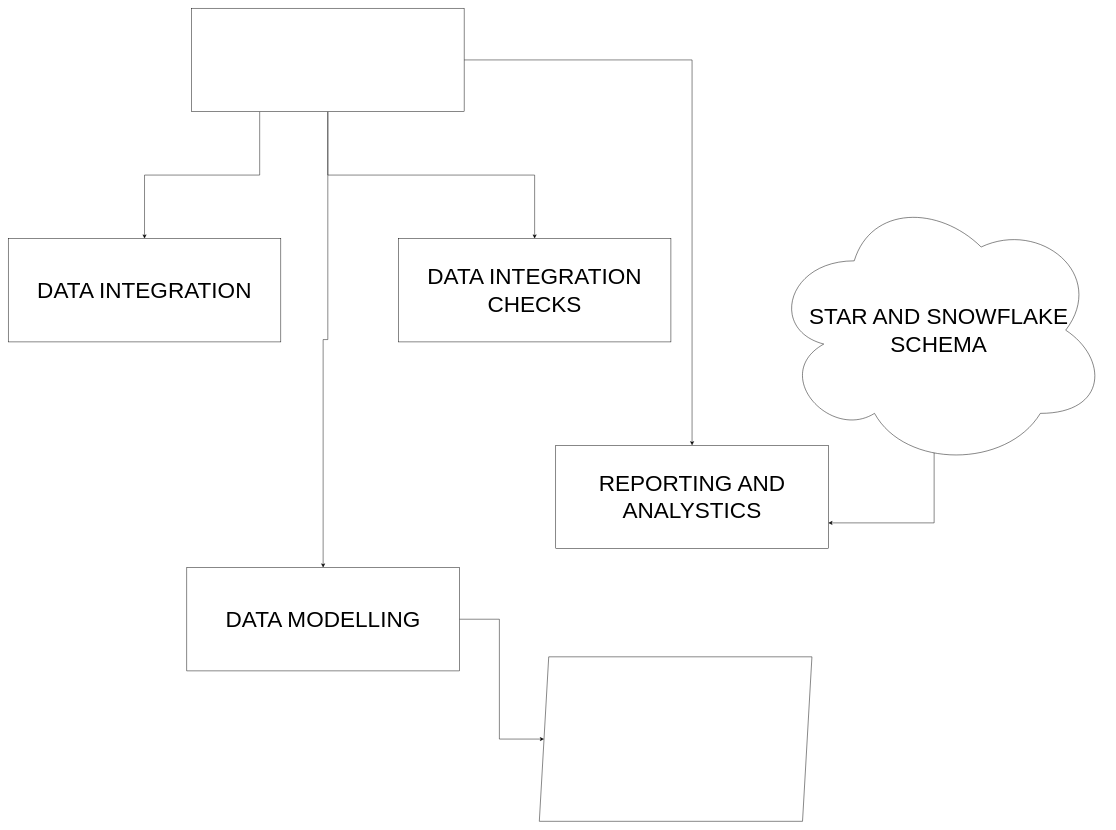
The diagram is 1116 pixels wide and 830 high, and some of its shapes have lost their labels. The shapes that lost their labels are listed below. From the top down, each one's centre as x and y in pixels, then its label:
At (327,60): "GOLD LAYER".
At (675,738): "conceptual,logical and physical".
